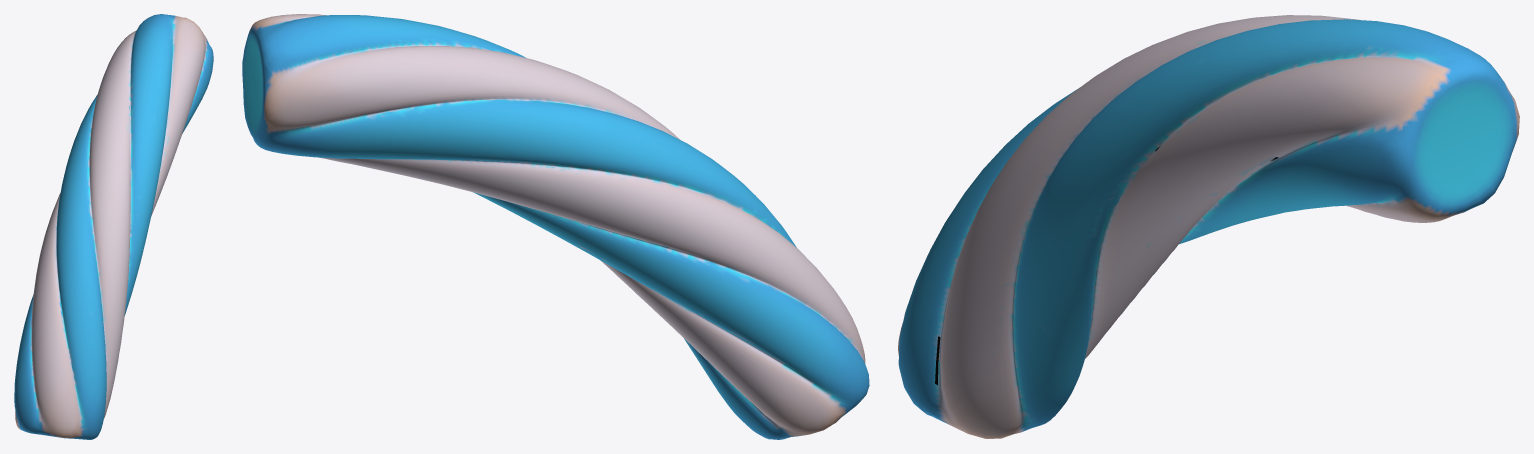
File: twister_006.obj
The picture shows the model from 3 angles, left to right: view 1: azimuth 30°, elevation 25°; view 2: azimuth 150°, elevation 25°; view 3: azimuth 270°, elevation 25°; orthographic projection. The views are drawn at different scales.
Visible parts, largest first — view 1: twister.006; view 2: twister.006; view 3: twister.006.
Boxes of the visible parts, x1,y1,x2,y2 form: twister.006: (14,14,213,439); twister.006: (242,14,869,439); twister.006: (898,15,1519,438).
Size of the model in its own units: 1.67 by 1.57 by 1.52.
Materials: 1 (1 with a texture image).
